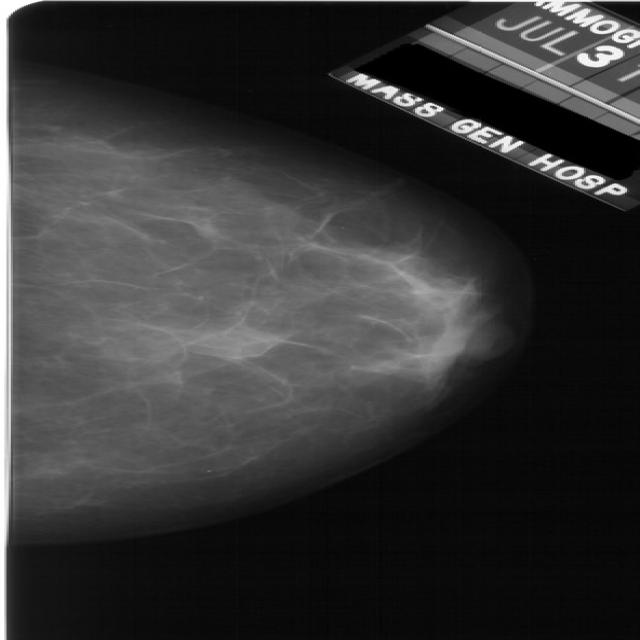tumour: (177, 325, 281, 359)
